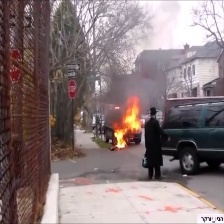fire: (110, 96, 141, 148)
